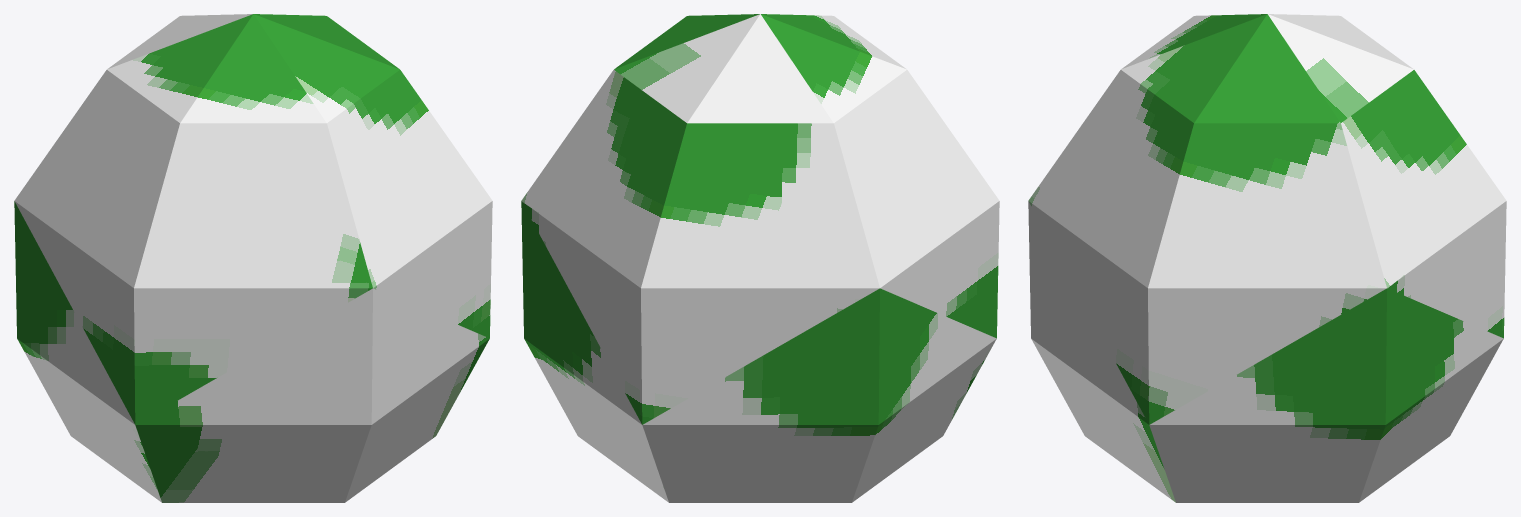
The model's file is yoshi_egg.obj.
3 renders of one model, left to right at view 1: azimuth 30°, elevation 25°; view 2: azimuth 150°, elevation 25°; view 3: azimuth 270°, elevation 25°, orthographic.
Visible parts, largest first — view 1: egg; view 2: egg; view 3: egg.
Boxes of the visible parts, bbox=[...] form: egg: bbox=[14, 14, 492, 502]; egg: bbox=[521, 14, 999, 502]; egg: bbox=[1028, 14, 1506, 502].
Bounding box in the file's own units: 9.43 × 11.8 × 10.89.
Materials: 1 (1 with a texture image).
